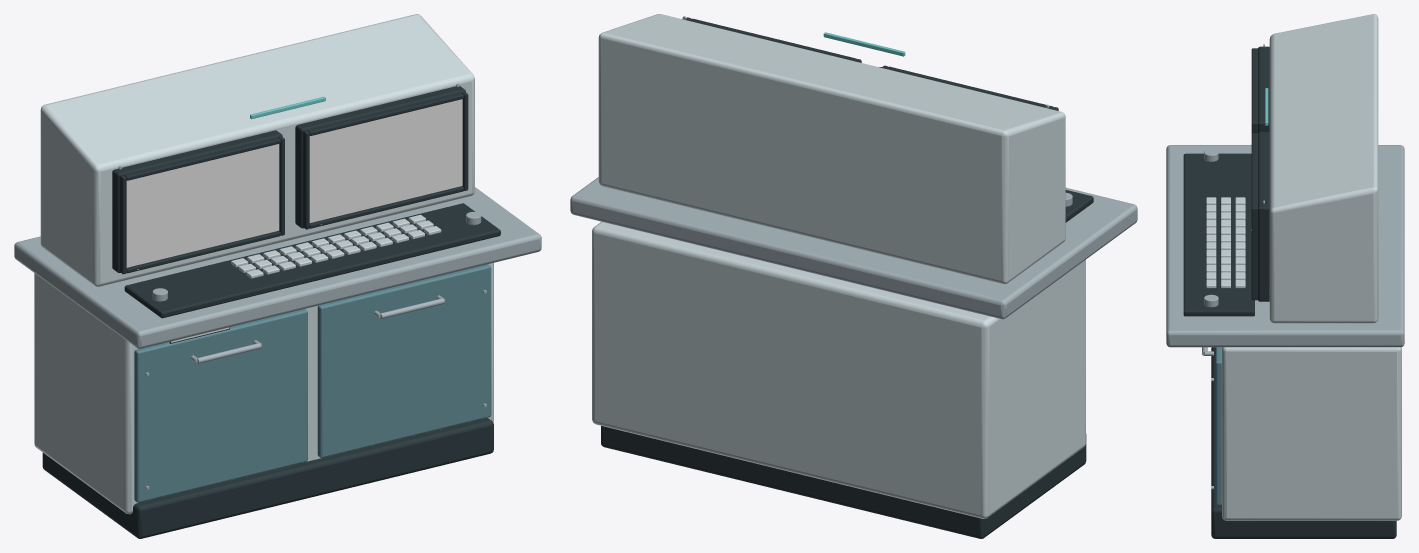
Rendered from CP_ObservationConsole.fbx.
3 views of the same model, side by side, from view 1: azimuth 30°, elevation 25°; view 2: azimuth 150°, elevation 25°; view 3: azimuth 270°, elevation 25° (orthographic). The views are drawn at different scales.
Visible parts, largest first — view 1: CP_ObservationConsole; view 2: CP_ObservationConsole; view 3: CP_ObservationConsole.
Part boxes in pixels (bbox=[...]): CP_ObservationConsole: bbox=[14, 14, 541, 538]; CP_ObservationConsole: bbox=[570, 14, 1137, 538]; CP_ObservationConsole: bbox=[1166, 14, 1404, 538].
Size of the model in its own units: 168 by 149 by 90.
